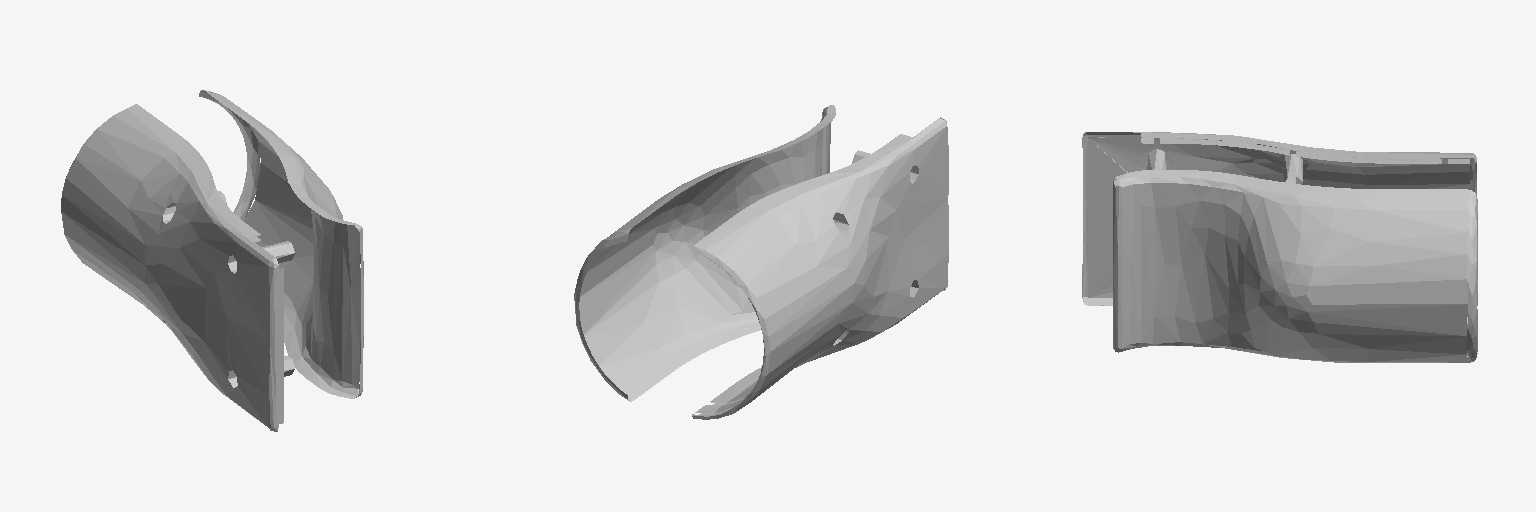
The picture shows the model from 3 angles: view 1: azimuth 30°, elevation 25°; view 2: azimuth 150°, elevation 25°; view 3: azimuth 270°, elevation 25°; orthographic projection.
Parts seen in each view (by area): view 1: link3_1; view 2: link3_1; view 3: link3_1.
Boxes of the visible parts, box(x1,y1,x2,y2) form: link3_1: box(61, 90, 363, 431); link3_1: box(574, 105, 948, 419); link3_1: box(1082, 132, 1477, 362).
Bounding box in the file's own units: 77.51 × 65.37 × 134.